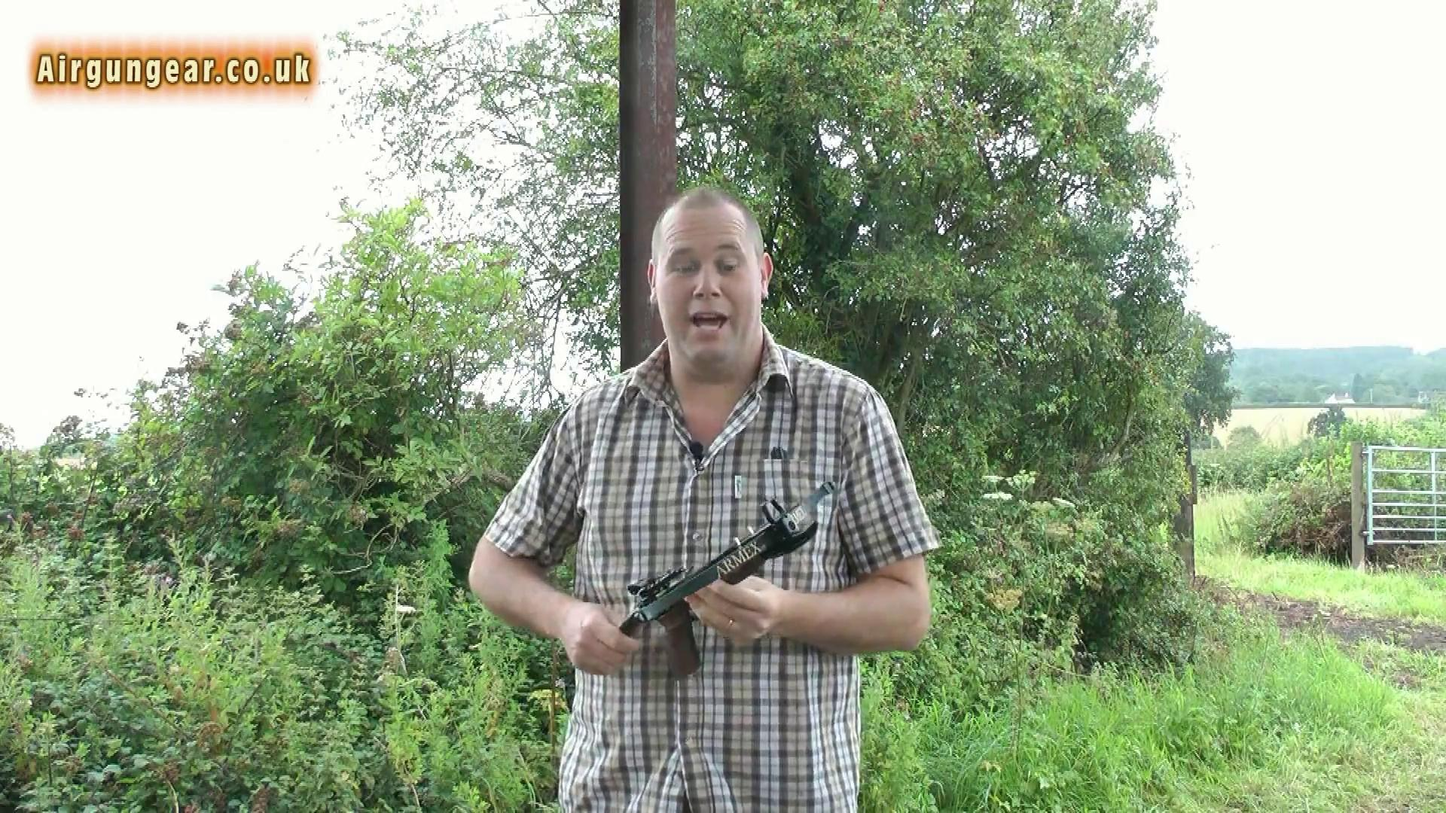victim: (459, 186, 942, 812)
